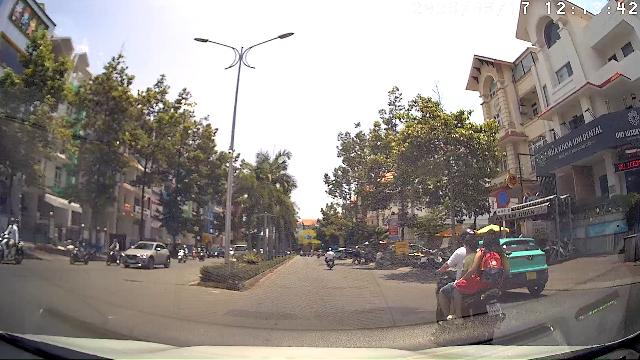131a-cam-do-xe: (496, 190, 510, 207)
